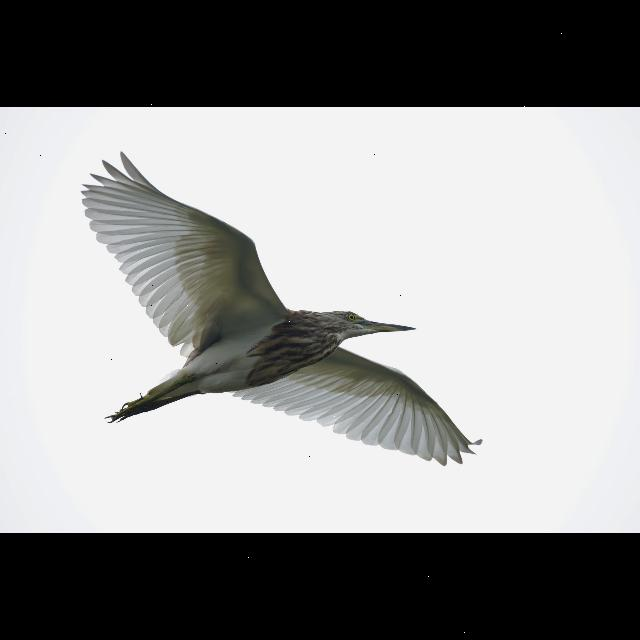heron: (86, 154, 482, 462)
